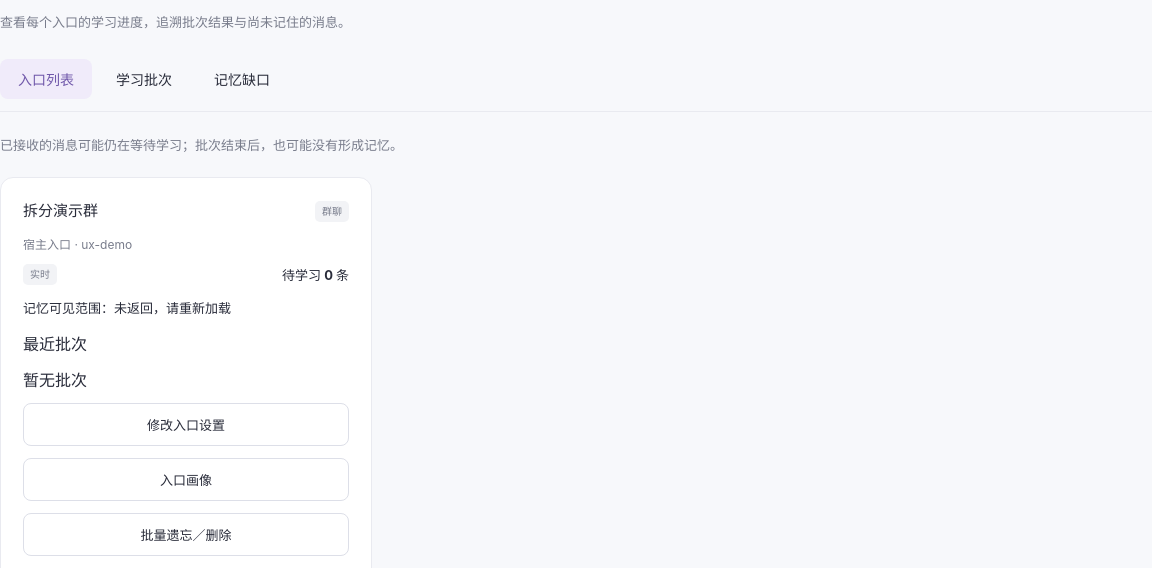
Test: 重学冲突保留失败与缺口
The width and height of the screenshot is (1152, 568).
What coordinates should you click on to do the following:
click the button "学习批次"
I would click on:
 (144, 79)
Its box is [98, 59, 190, 99].
(page scrolled)
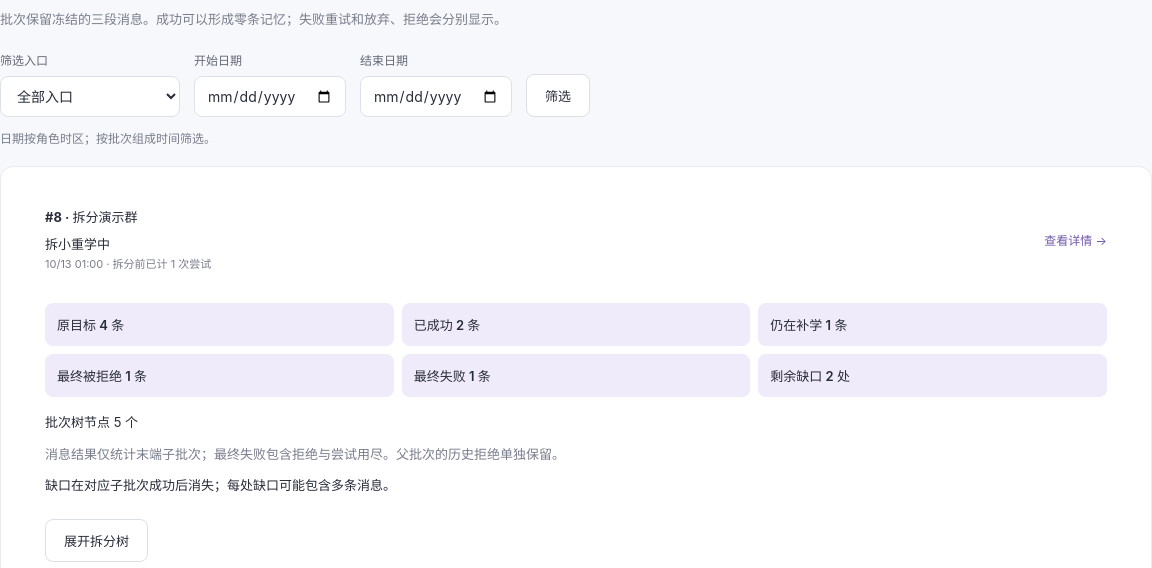
Expected: the button with aria-label "查看批次 #8" is shown, [1044, 225, 1107, 254]
What coordinates should you click on to do the following:
click the button with aria-label "展开拆分树 #8"
I would click on:
 (96, 541)
Its box is [45, 519, 148, 562].
(page scrolled)
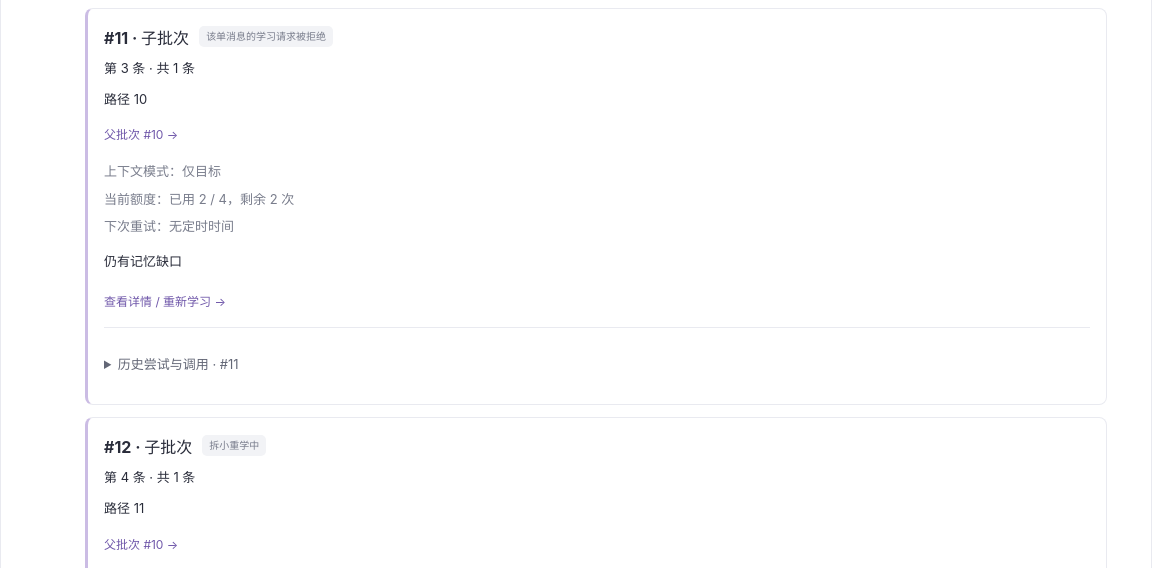
What coordinates should you click on to do the following:
click the button with aria-label "查看批次 #11"
I would click on:
 (165, 300)
Its box is [104, 286, 226, 315].
(page scrolled)
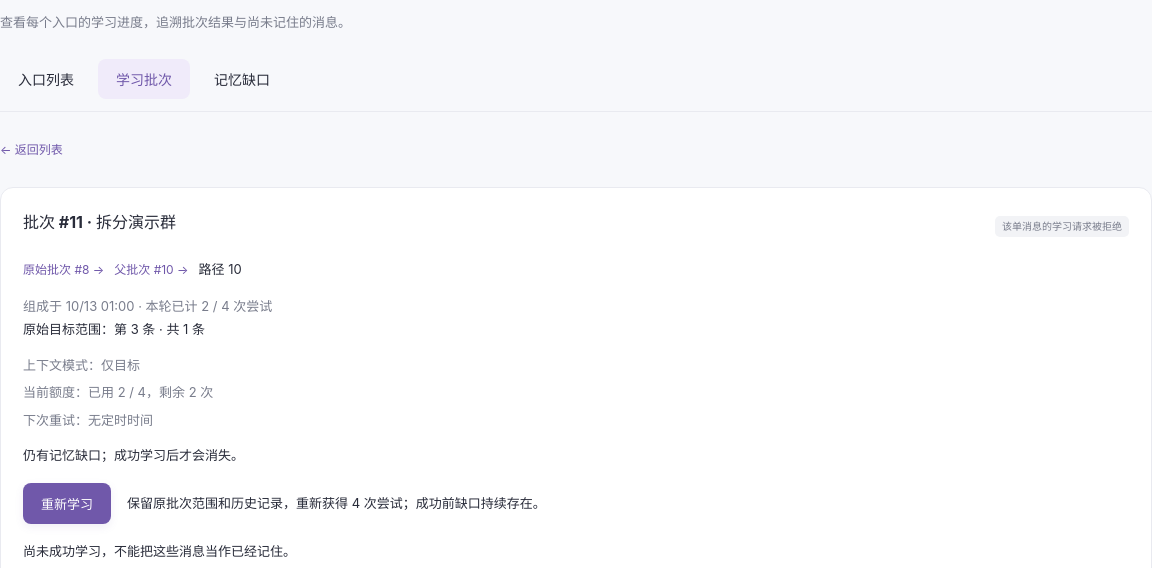
What coordinates should you click on to do the following:
click the button "重新学习"
I would click on:
 (67, 504)
Its box is [23, 483, 111, 524].
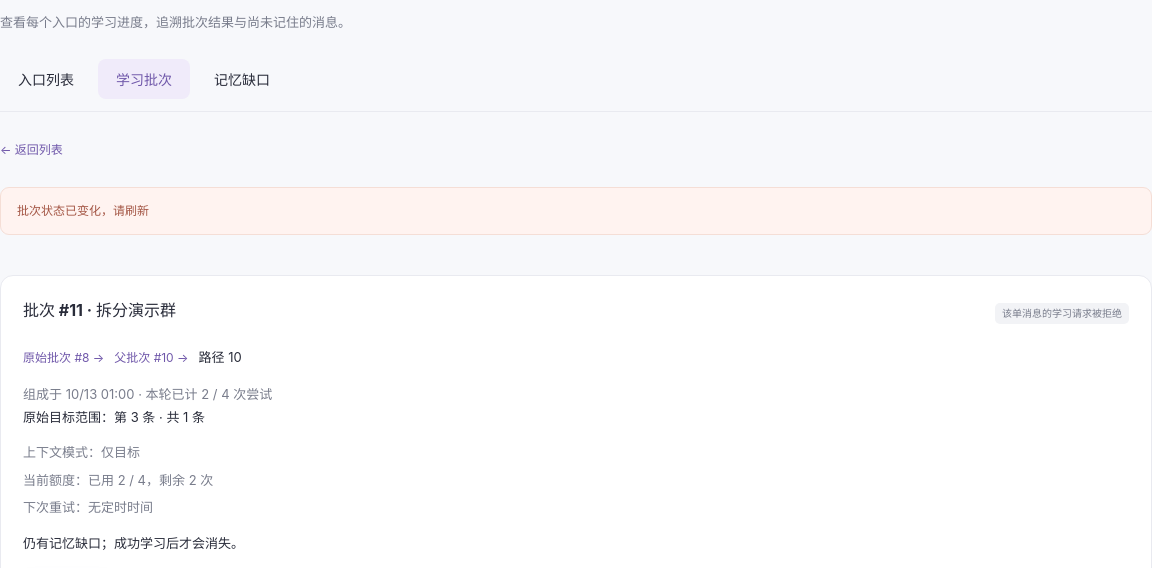
Expected: the text "该单消息的学习请求被拒绝" is shown, [995, 303, 1129, 324]
Expected: the text "批次状态已变化，请刷新" is shown, [0, 187, 1151, 235]
